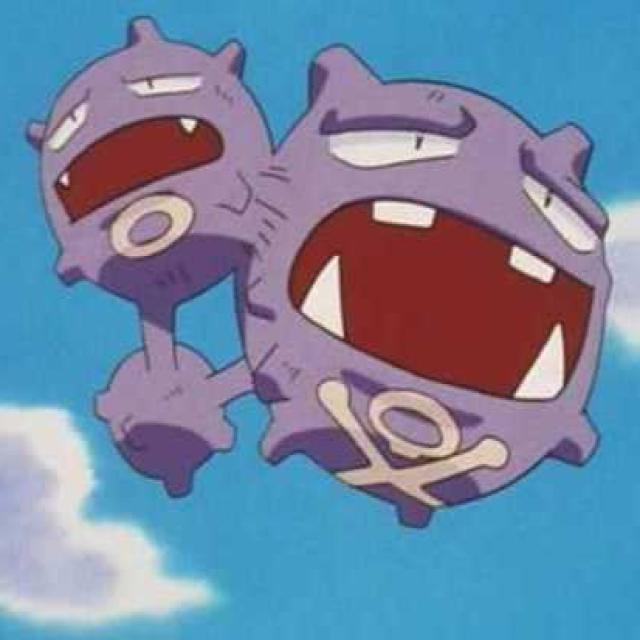Weezing: (37, 37, 620, 533)
